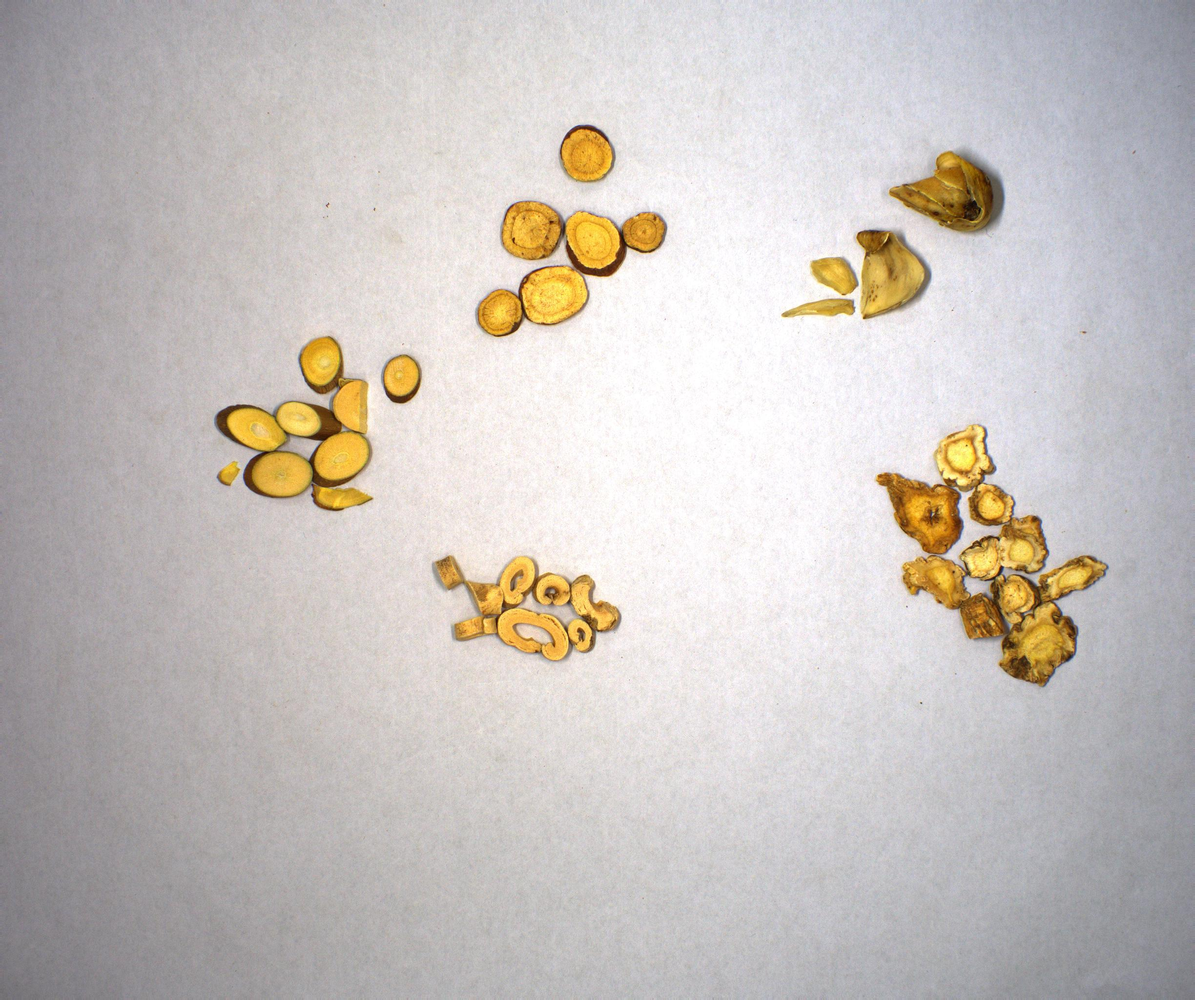baihe: (762, 138, 1011, 339)
baixianpi: (423, 540, 630, 669)
gancao: (465, 123, 679, 351)
jiegeng: (865, 413, 1122, 699)
sangzhi: (199, 332, 434, 519)
